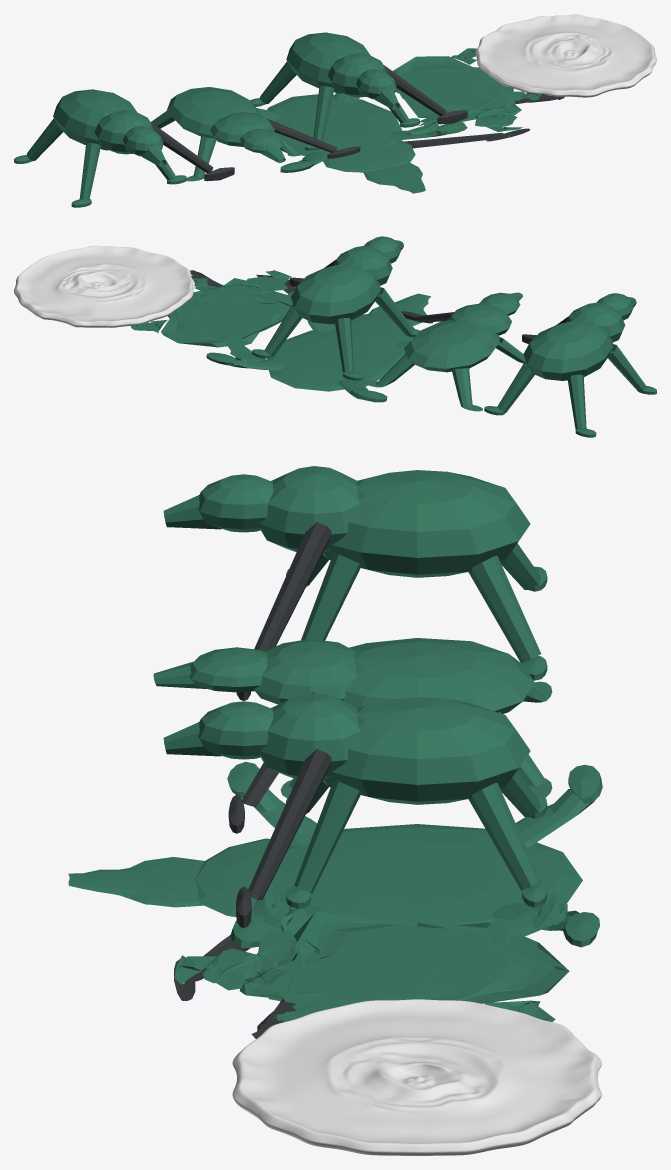
The model's file is longa_arma_death_morph_shape_key.glb.
The picture shows the model from 3 angles, top to bottom: view 1: azimuth 30°, elevation 25°; view 2: azimuth 150°, elevation 25°; view 3: azimuth 270°, elevation 25°; orthographic projection. The views are drawn at different scales.
Parts seen in each view (by area): view 1: mesh_node, STAGE_02_collapse, STAGE_00_body, LongaArma_DeathMorph_ShapeKeyMesh, STAGE_01_sag, STAGE_03_puddle_shape_key; view 2: mesh_node, STAGE_02_collapse, STAGE_00_body, LongaArma_DeathMorph_ShapeKeyMesh, STAGE_03_puddle_shape_key, STAGE_01_sag; view 3: mesh_node, LongaArma_DeathMorph_ShapeKeyMesh, STAGE_00_body, STAGE_02_collapse, STAGE_03_puddle_shape_key, STAGE_01_sag.
Boxes of the visible parts, bbox=[...] form: mesh_node: bbox=[475, 14, 656, 97]; STAGE_02_collapse: bbox=[256, 93, 529, 193]; STAGE_00_body: bbox=[14, 89, 234, 207]; LongaArma_DeathMorph_ShapeKeyMesh: bbox=[250, 32, 467, 150]; STAGE_01_sag: bbox=[151, 87, 360, 181]; STAGE_03_puddle_shape_key: bbox=[393, 48, 564, 134]; mesh_node: bbox=[14, 245, 194, 327]; STAGE_02_collapse: bbox=[206, 274, 430, 402]; STAGE_00_body: bbox=[484, 293, 656, 437]; LongaArma_DeathMorph_ShapeKeyMesh: bbox=[252, 236, 420, 380]; STAGE_03_puddle_shape_key: bbox=[131, 270, 292, 362]; STAGE_01_sag: bbox=[362, 292, 525, 411]; mesh_node: bbox=[232, 999, 601, 1155]; LongaArma_DeathMorph_ShapeKeyMesh: bbox=[163, 693, 547, 927]; STAGE_00_body: bbox=[163, 466, 547, 700]; STAGE_02_collapse: bbox=[68, 761, 602, 1000]; STAGE_03_puddle_shape_key: bbox=[174, 887, 569, 1038]; STAGE_01_sag: bbox=[153, 638, 552, 833].
Size of the model in its own units: 12.37 by 1.84 by 4.78.
